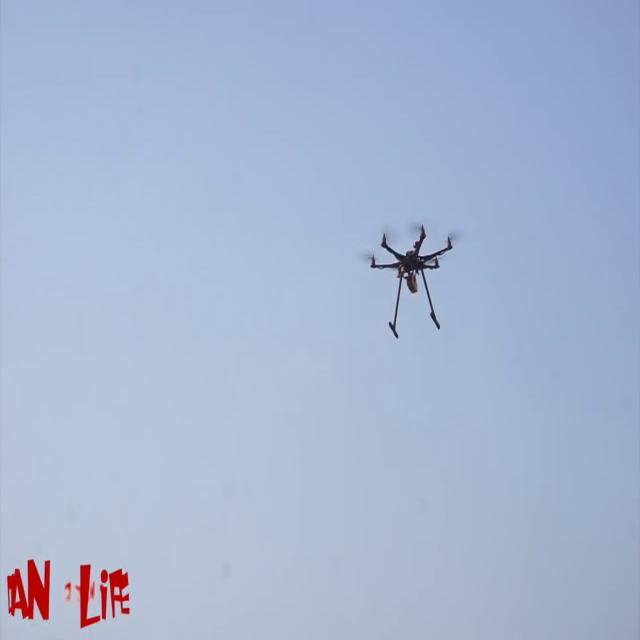drone: (353, 202, 460, 374)
